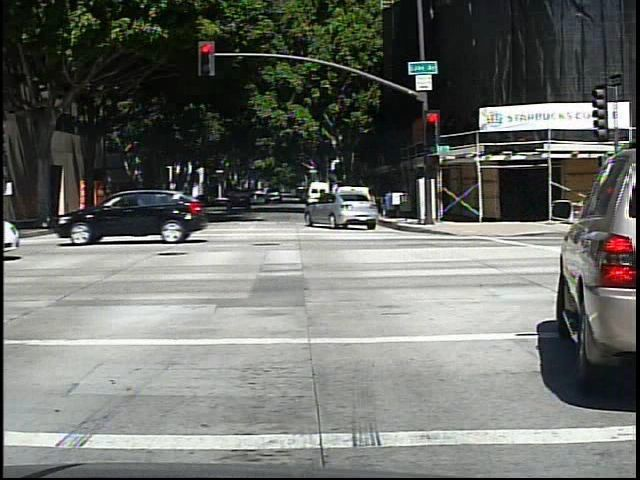person: (99, 185, 113, 219)
